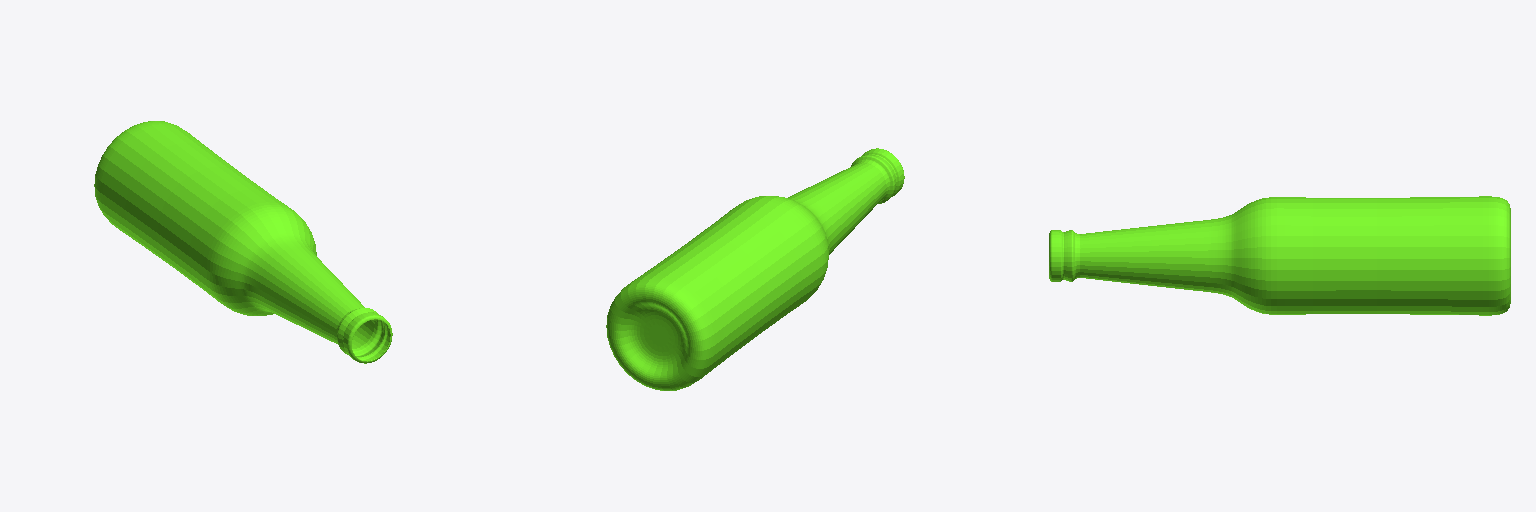
The model's file is glass_bottle.obj.
3 views of the same model, side by side, from view 1: azimuth 30°, elevation 25°; view 2: azimuth 150°, elevation 25°; view 3: azimuth 270°, elevation 25° (orthographic).
Parts seen in each view (by area): view 1: Line005; view 2: Line005; view 3: Line005.
Part boxes in pixels (x1,y1,x2,y2): Line005: (94, 121, 392, 363); Line005: (606, 148, 904, 390); Line005: (1049, 196, 1510, 315).
Size of the model in its own units: 6.31 by 6.31 by 24.38.